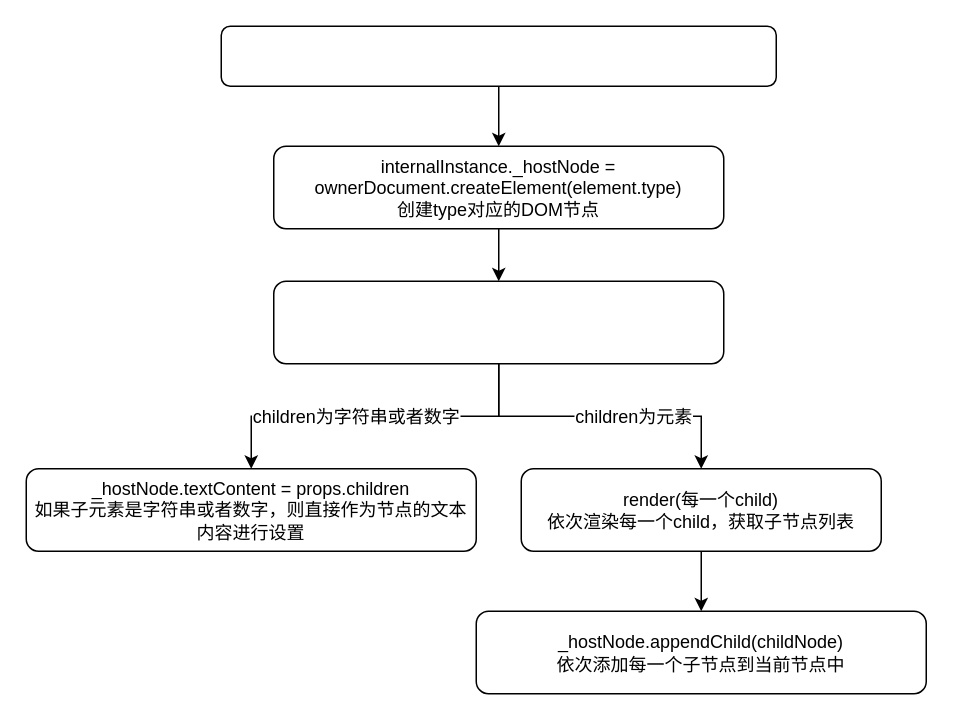
This 953x720 diagram has some shape labels left out. Here are the shapes that lost their labels. From the top down, the centre of each, then its label:
At point (498, 55): "internalInstance = new ReactDOMComponent(element) 初始化component元素对应的内部实例".
At point (498, 322): "internalInstance._updateDOMProperties() 将元素中的props更新到_hostNode节点上去".
